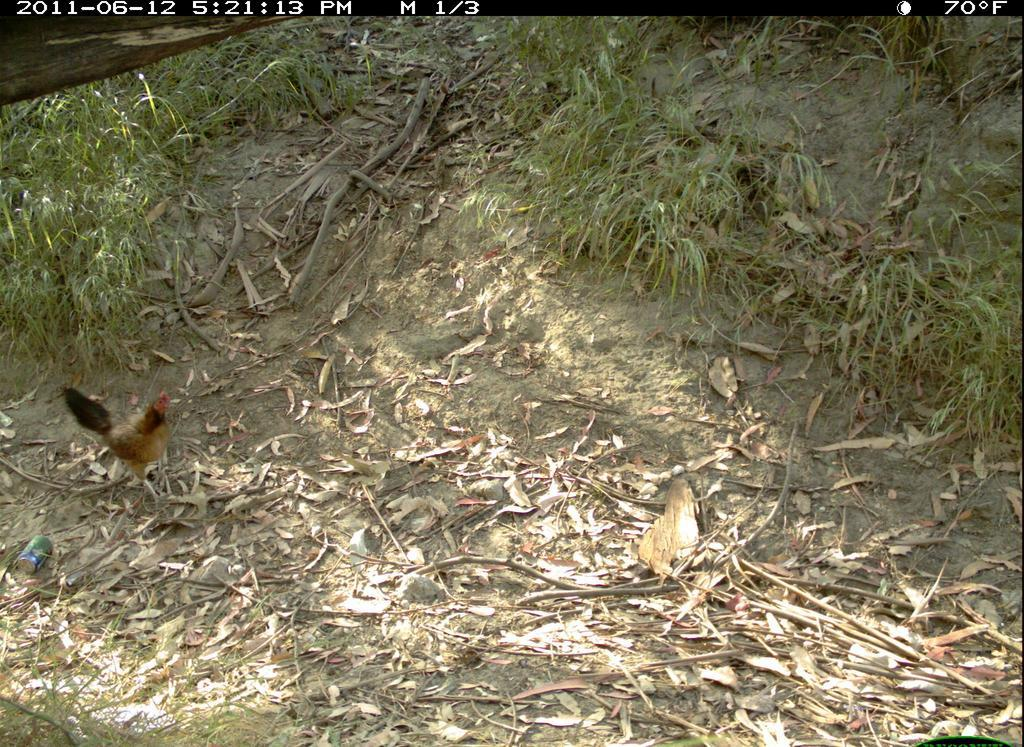bird: (54, 378, 191, 518)
